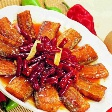hongshaodaiyu: (1, 10, 109, 112)
